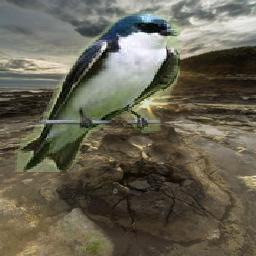Swallow: (16, 12, 181, 173)
